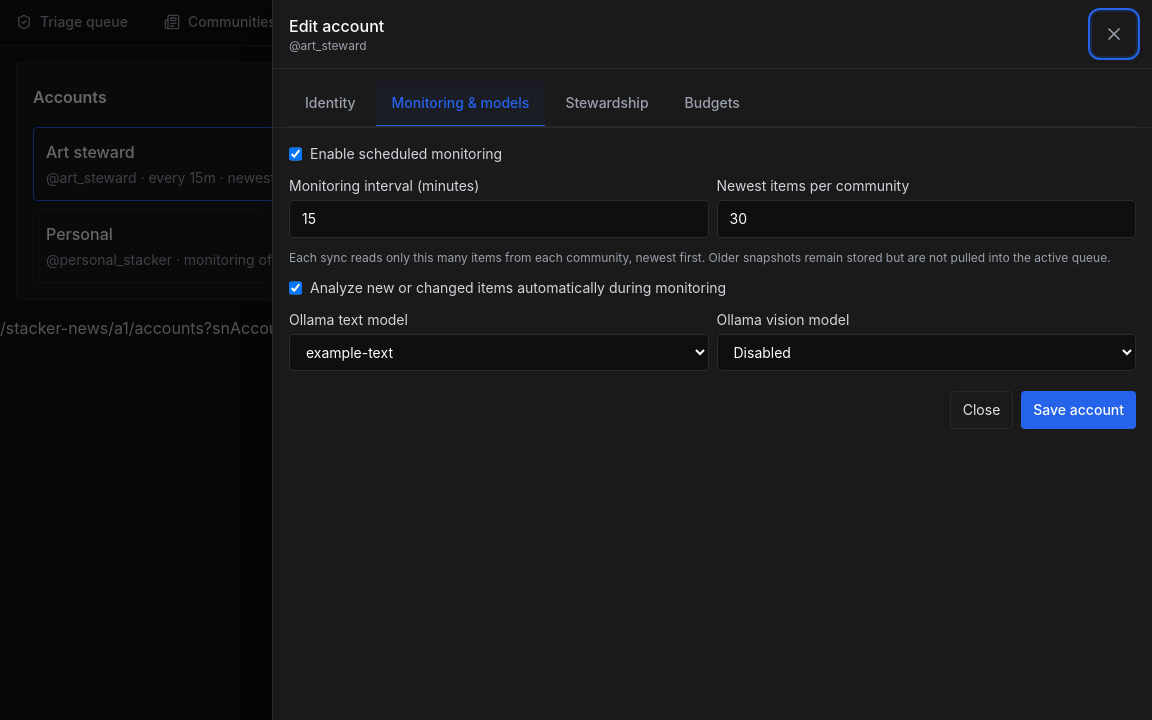
Test: StackerNews › reports an invalid field from an unmounted drawer tab and switches to it
Clear the number field labelled "Monitoring interval (minutes)" at [499, 219], box [289, 200, 708, 238]
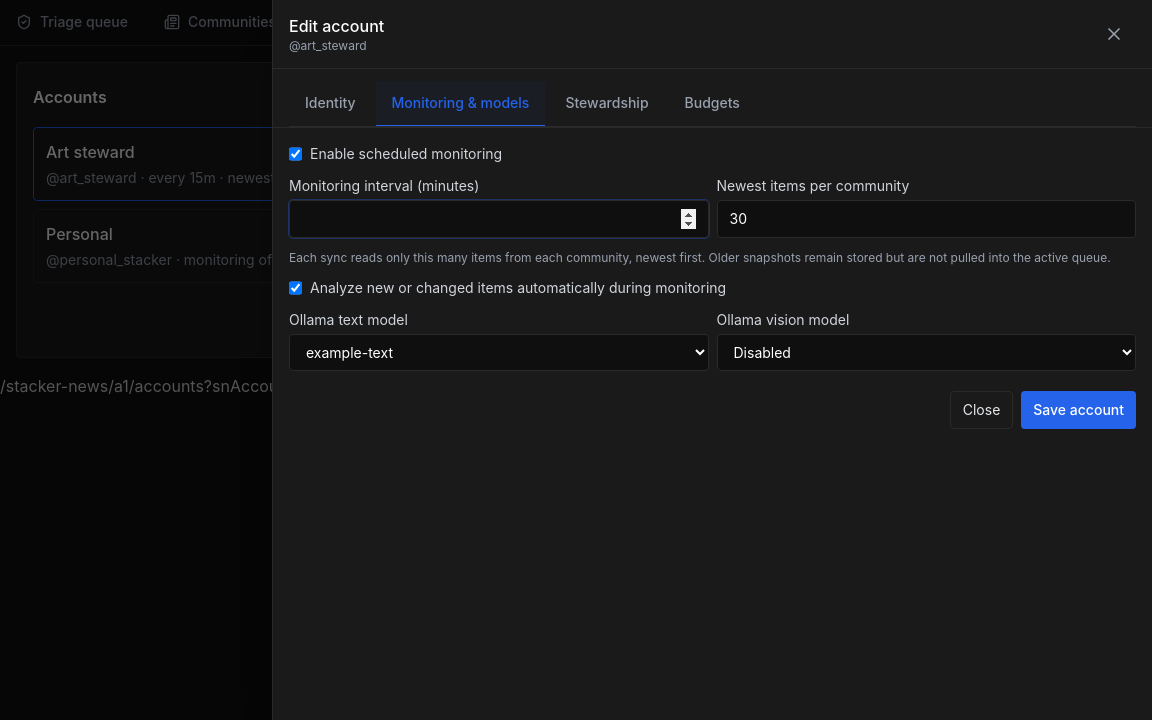
Click the tab "Budgets".
click(712, 104)  # box [668, 81, 756, 127]
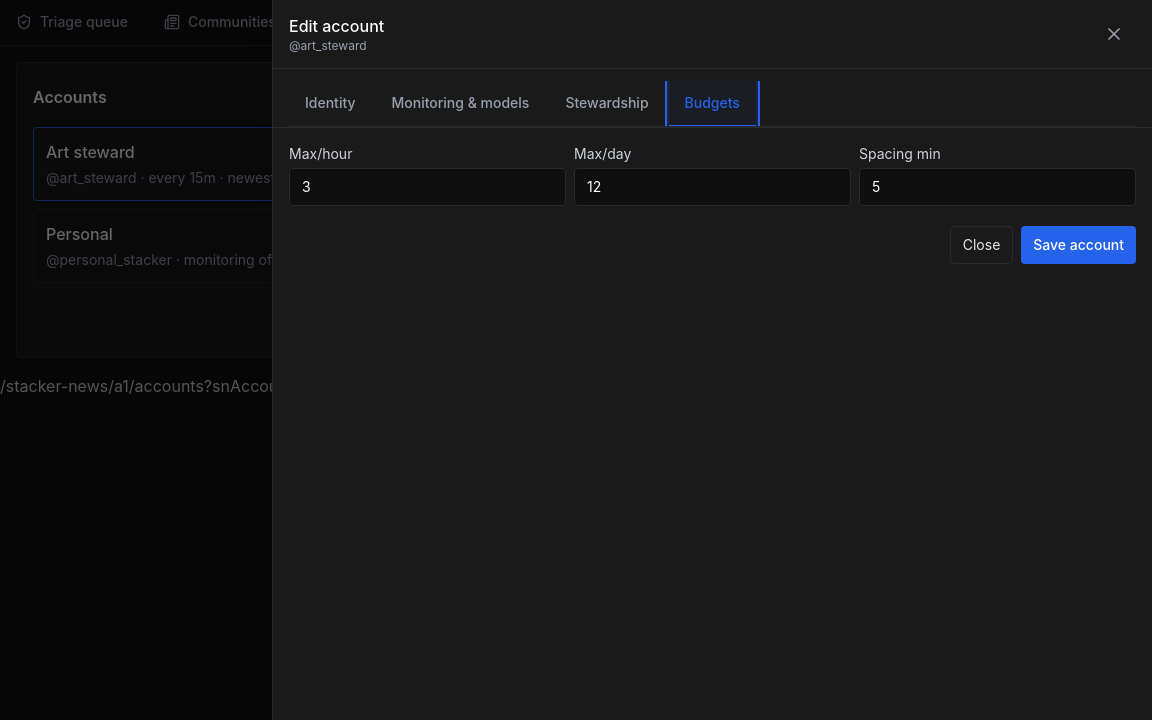
Click the button "Save account".
click(1079, 245)  # box [1021, 226, 1136, 264]
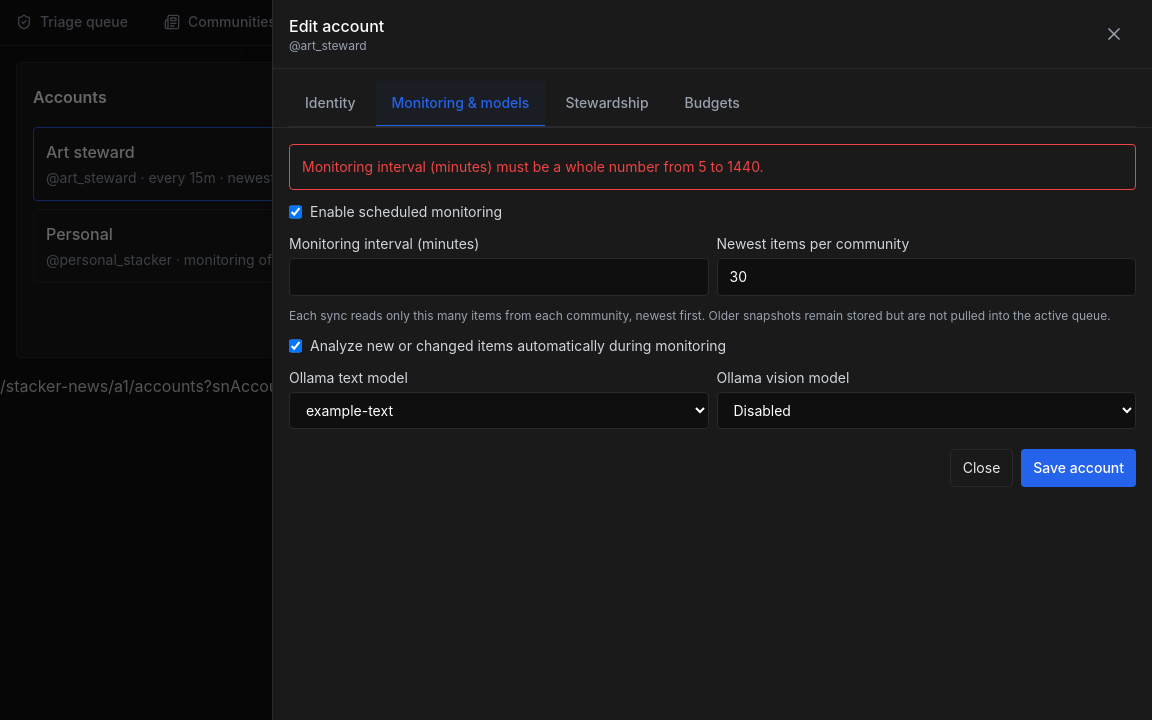
expect the number field labelled "Monitoring interval (minutes)" is shown: met, box [289, 258, 708, 296]
expect the text "Monitoring interval (minutes) must be a whole number from 5 to 1440" is shown: met, box [302, 158, 764, 175]
